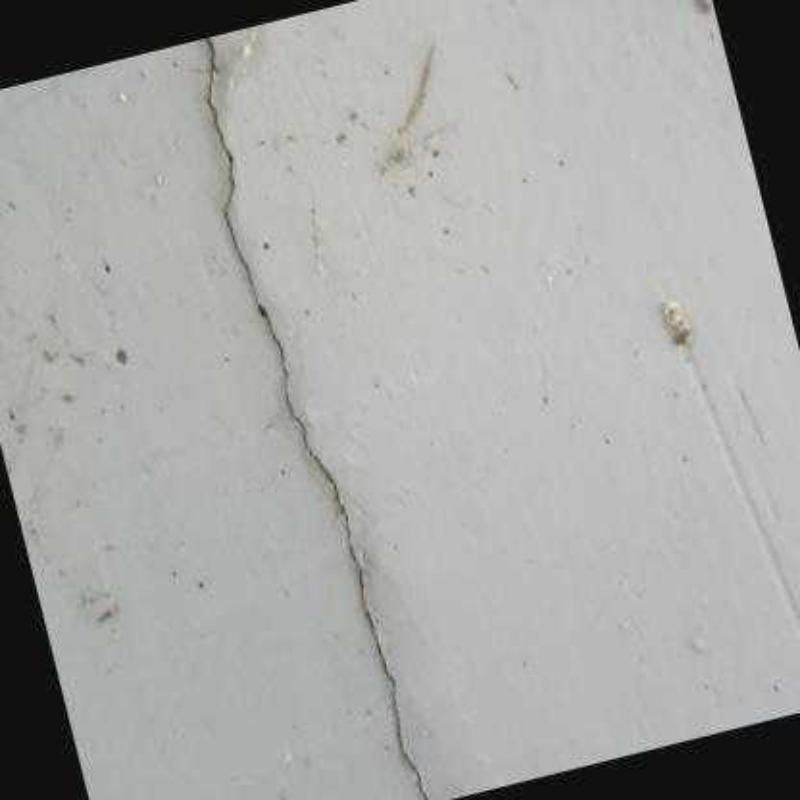pothole: (205, 36, 429, 798)
